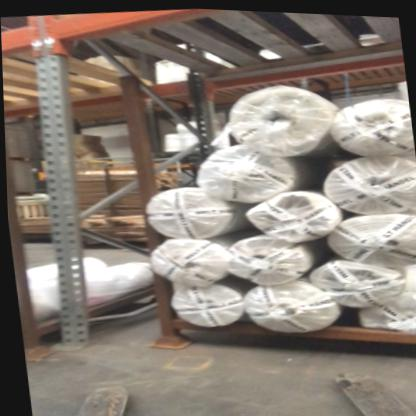vertical_damage: (47, 323, 96, 363)
